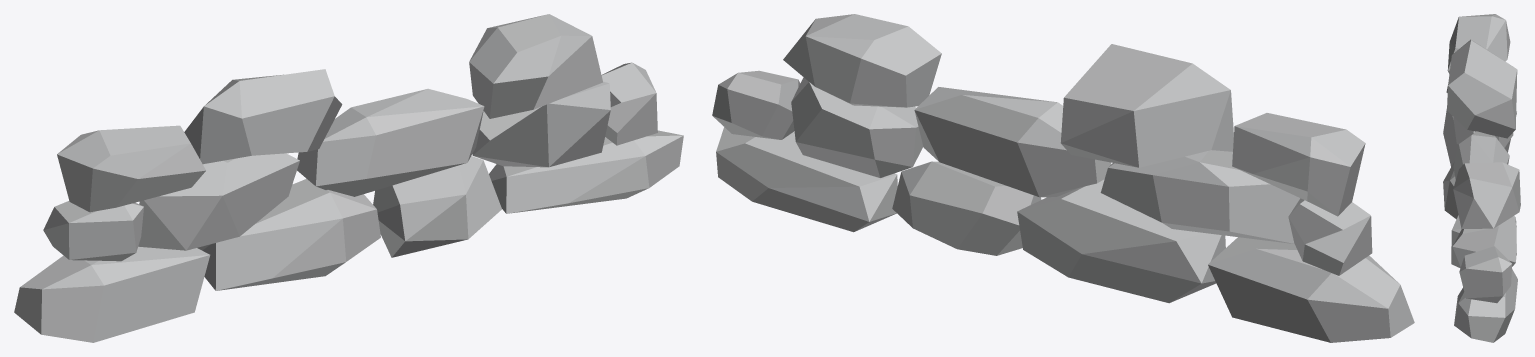
The model's file is fence_stones.fbx.
3 views of the same model, side by side, from view 1: azimuth 30°, elevation 25°; view 2: azimuth 150°, elevation 25°; view 3: azimuth 270°, elevation 25° (orthographic). The views are drawn at different scales.
Visible parts, largest first — view 1: fence_stones; view 2: fence_stones; view 3: fence_stones.
Boxes of the visible parts, x1,y1,x2,y2 form: fence_stones: (14,14,683,342); fence_stones: (712,14,1414,342); fence_stones: (1443,14,1520,342).
Size of the model in its own units: 522 by 161 by 74.17.
